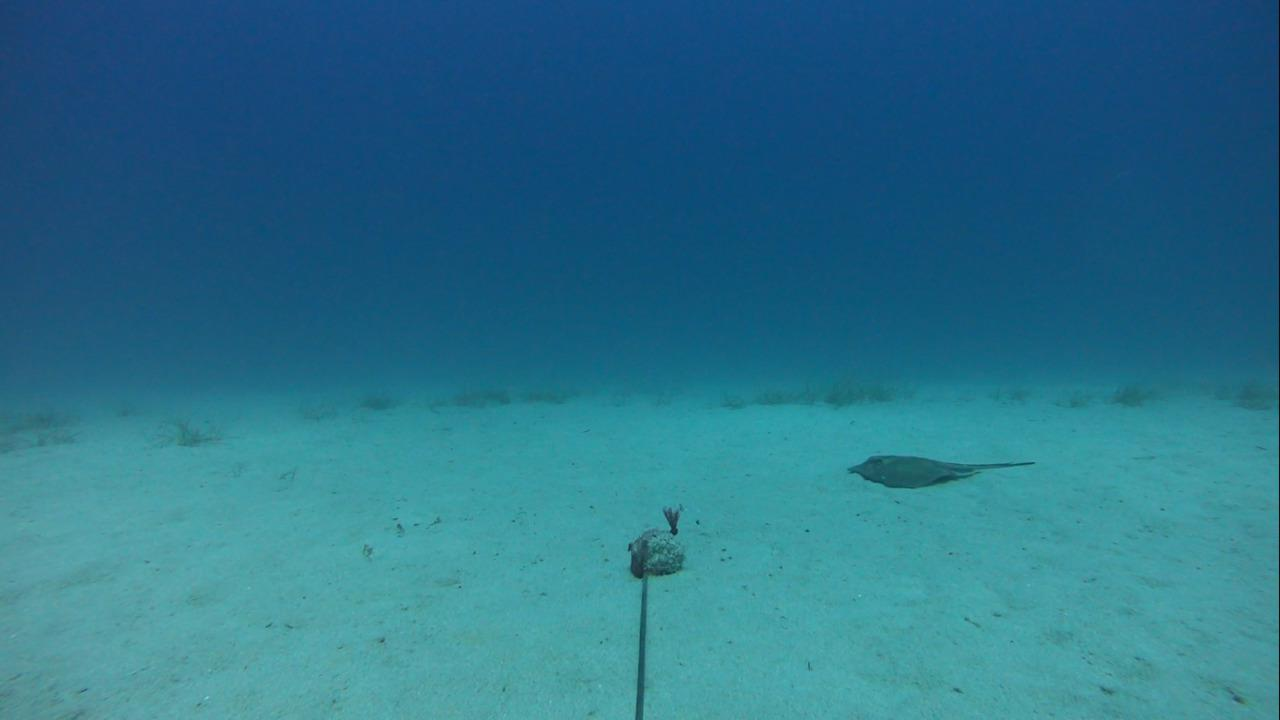myliobatis: (843, 446, 1035, 492)
